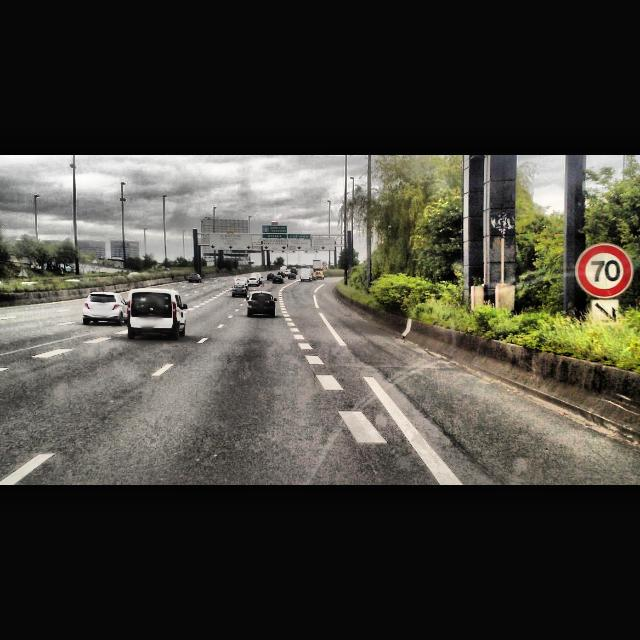speed_70: (579, 245, 631, 297)
